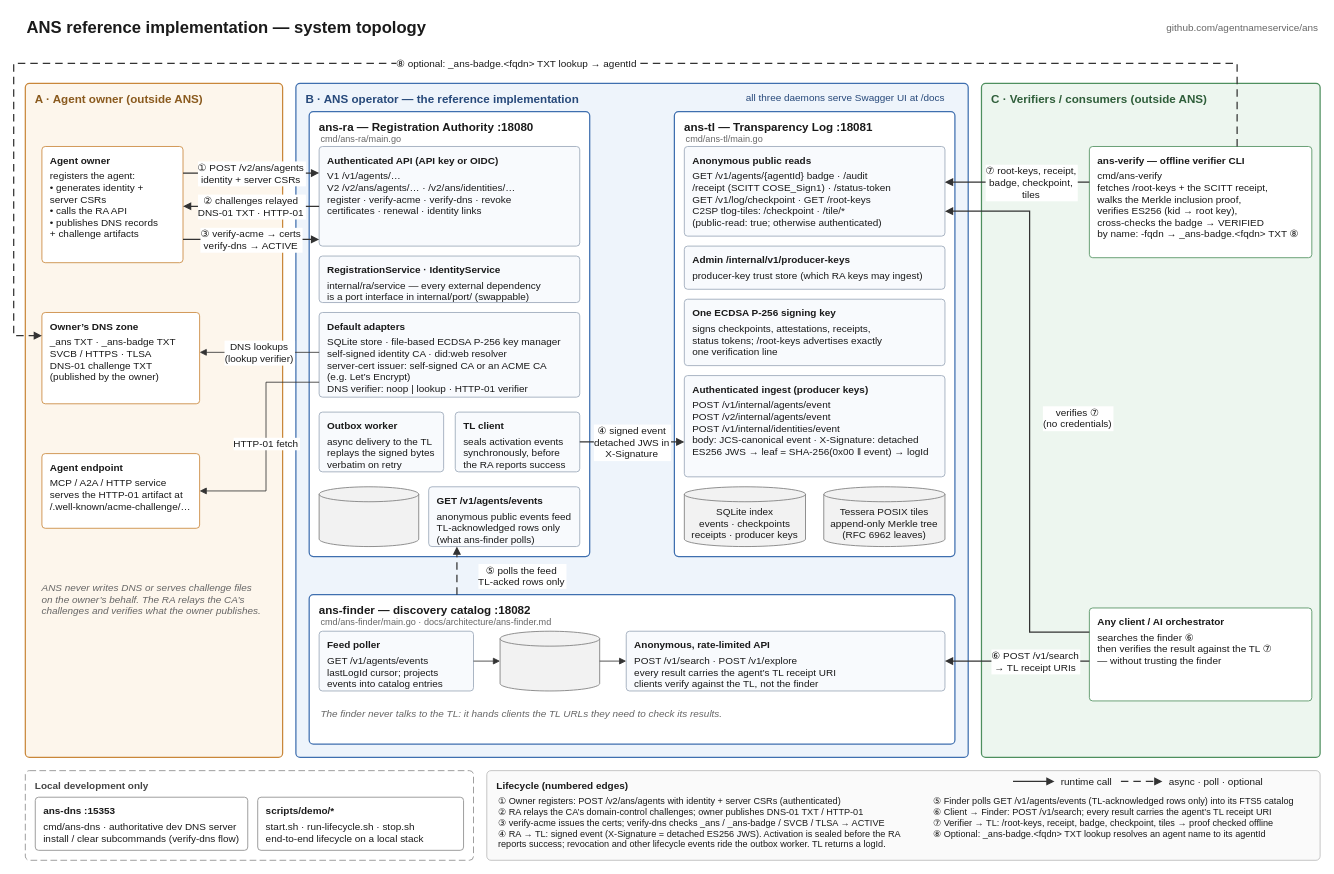
Some shapes in this 1334 by 874 pixel diagram are drawn without their labels. Here are the shapes that lost their labels. From the top down, the centre of each, then its label:
[368,516]: SQLite agents · certs outbox · feed
[549,660]: SQLite FTS5 catalog index
